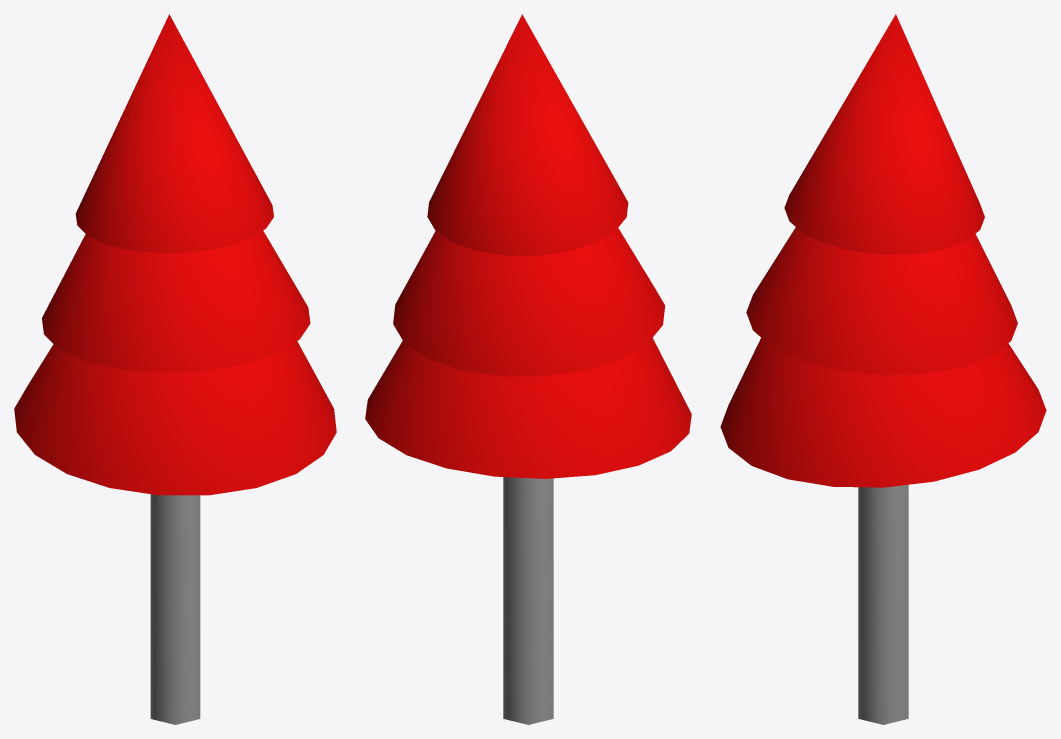
The model's file is SM_Tree.fbx.
The picture shows the model from 3 angles, left to right: view 1: azimuth 30°, elevation 25°; view 2: azimuth 150°, elevation 25°; view 3: azimuth 270°, elevation 25°; orthographic projection.
Parts seen in each view (by area): view 1: SM_TreeTop01, SM_TreeTop02, SM_TreeTop03, SM_TreeTrunk; view 2: SM_TreeTop01, SM_TreeTop02, SM_TreeTop03, SM_TreeTrunk; view 3: SM_TreeTop01, SM_TreeTop02, SM_TreeTop03, SM_TreeTrunk.
Boxes of the visible parts, x1,y1,x2,y2 form: SM_TreeTop01: (14, 341, 336, 495); SM_TreeTop02: (42, 230, 310, 373); SM_TreeTop03: (75, 14, 273, 253); SM_TreeTrunk: (150, 494, 200, 724); SM_TreeTop01: (365, 338, 691, 478); SM_TreeTop02: (393, 228, 665, 376); SM_TreeTop03: (427, 14, 628, 255); SM_TreeTrunk: (503, 477, 553, 724); SM_TreeTop01: (720, 337, 1046, 487); SM_TreeTop02: (746, 227, 1017, 375); SM_TreeTop03: (784, 14, 984, 254); SM_TreeTrunk: (858, 484, 908, 724).
Size of the model in its own units: 11.77 by 27.79 by 11.75.
